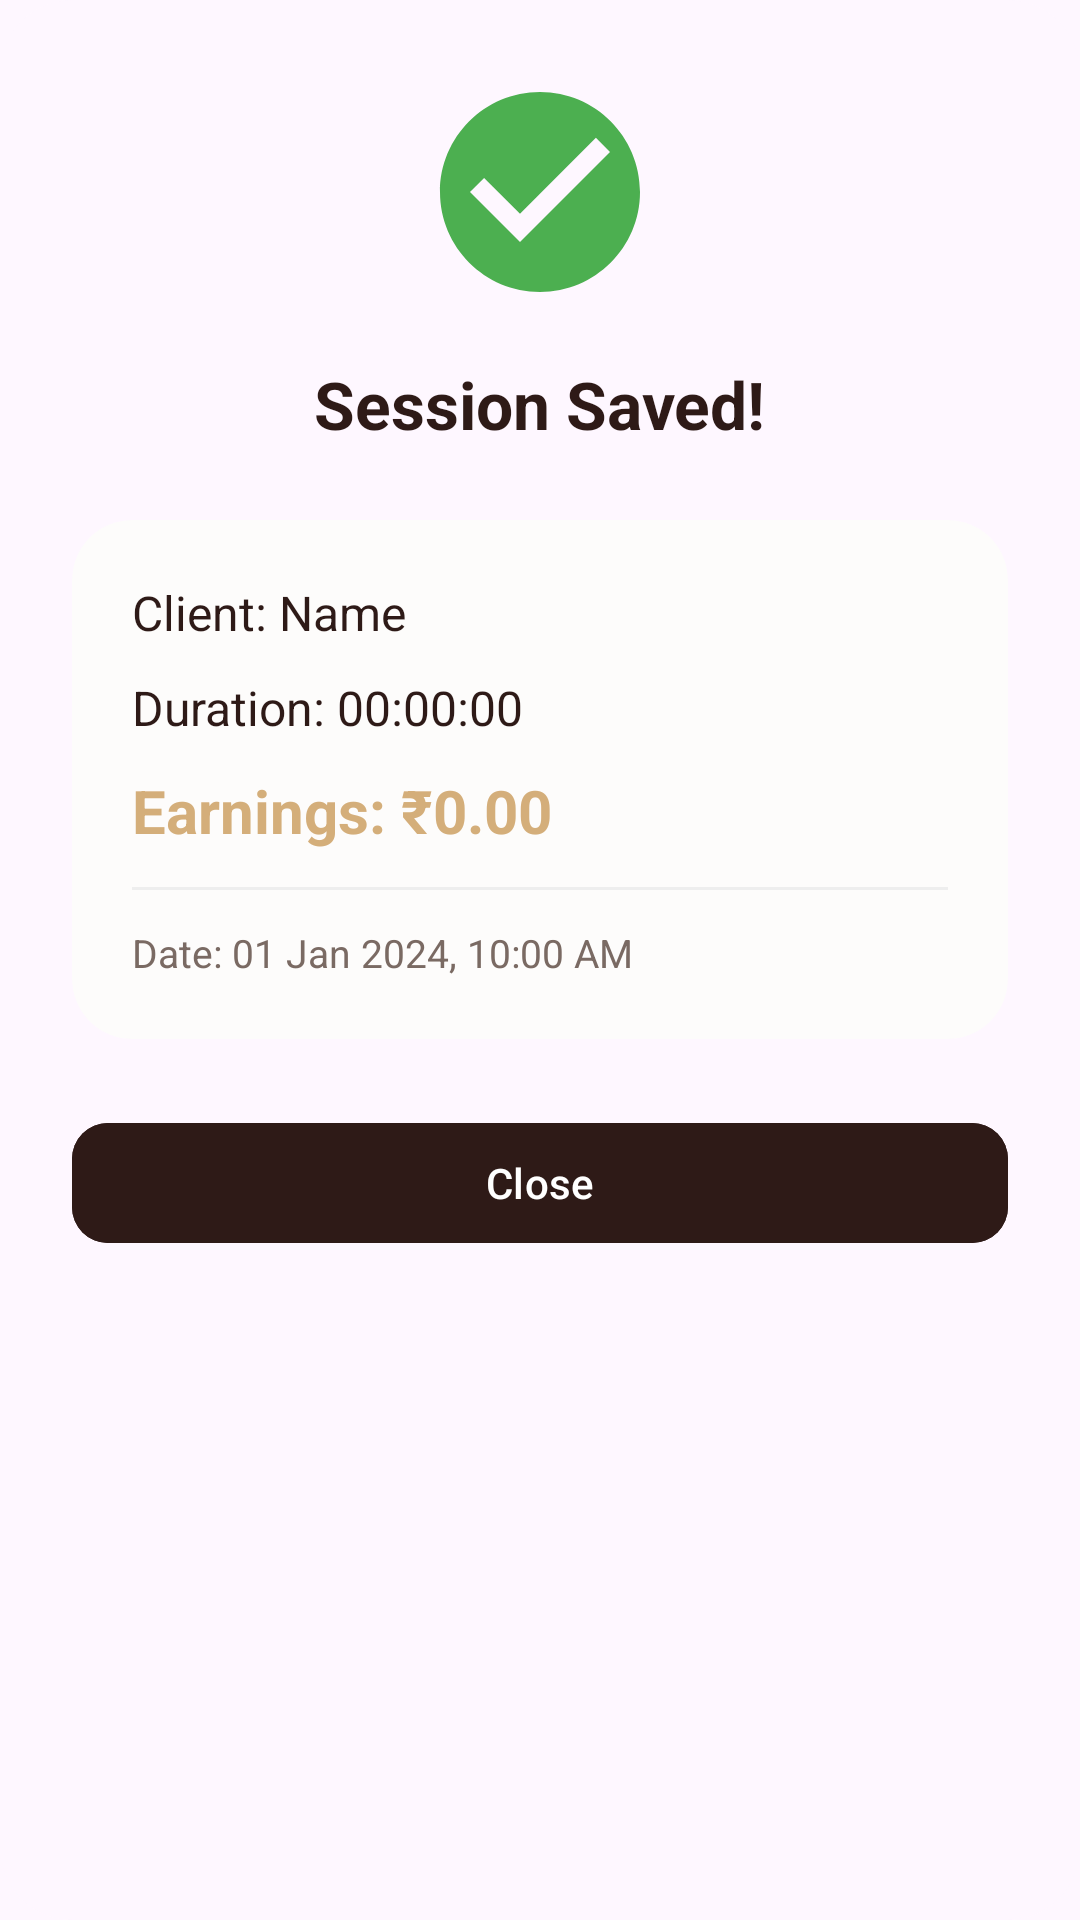

Point at icon controls on the screen. Image size 1080w x 1920h, points as (x,y).
Success Icon: (540,192)
